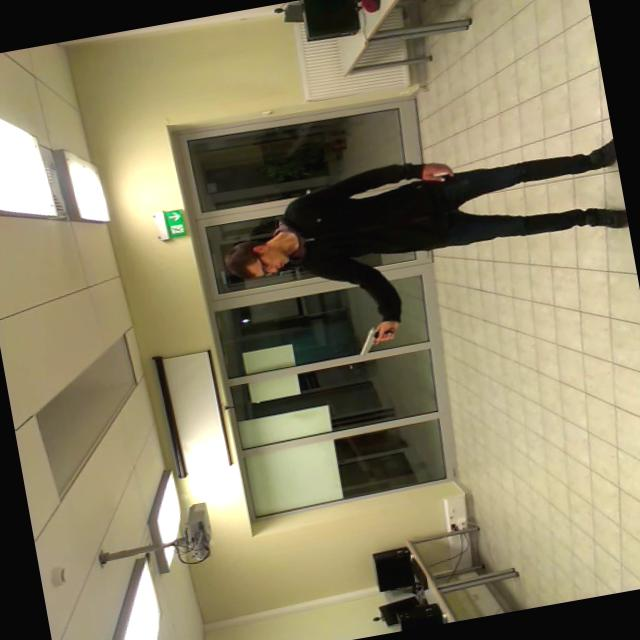handgun: (344, 318, 402, 364)
